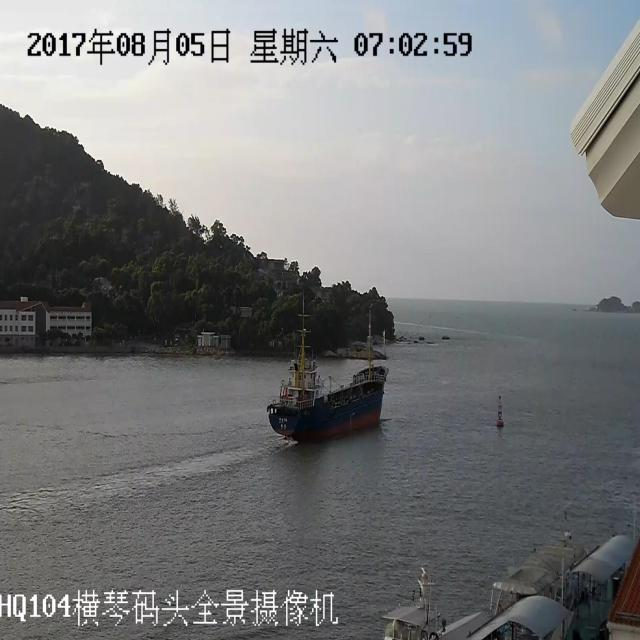buoy: (496, 390, 523, 450)
houseboat: (262, 297, 408, 447)
